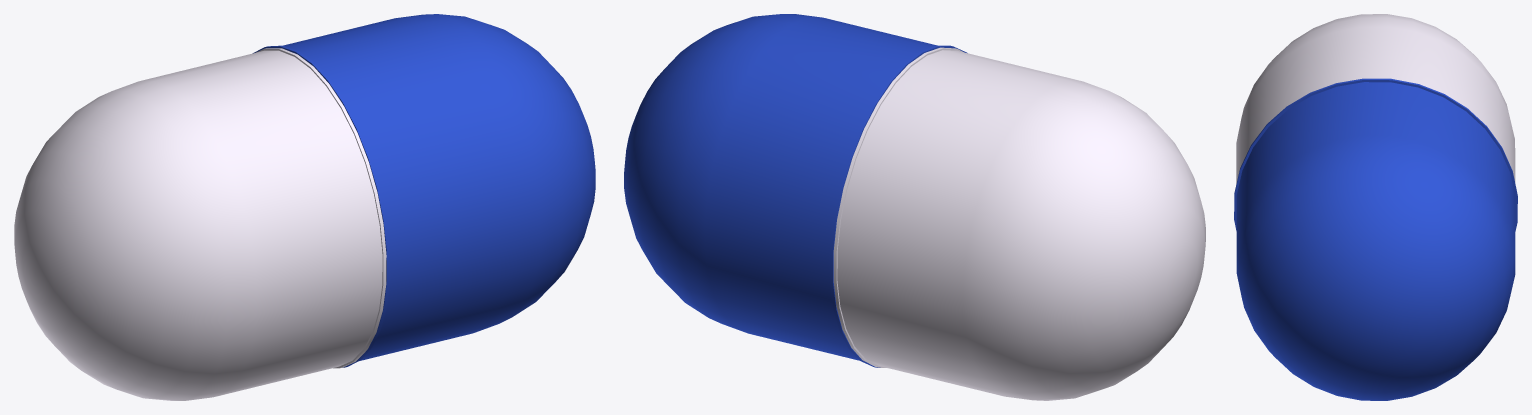
The picture shows the model from 3 angles, left to right: view 1: azimuth 30°, elevation 25°; view 2: azimuth 150°, elevation 25°; view 3: azimuth 270°, elevation 25°; orthographic projection. The views are drawn at different scales.
Parts seen in each view (by area): view 1: Таблетка белая, Таблетка белая.001; view 2: Таблетка белая, Таблетка белая.001; view 3: Таблетка белая.001, Таблетка белая.
Boxes of the visible parts, x1=… form: Таблетка белая: x1=14, y1=48, x2=386, y2=400; Таблетка белая.001: x1=252, y1=14, x2=595, y2=367; Таблетка белая: x1=833, y1=47, x2=1205, y2=400; Таблетка белая.001: x1=624, y1=14, x2=967, y2=367; Таблетка белая.001: x1=1234, y1=78, x2=1517, y2=400; Таблетка белая: x1=1236, y1=14, x2=1515, y2=183.
Bounding box in the file's own units: 2.89 × 1.53 × 1.53.
